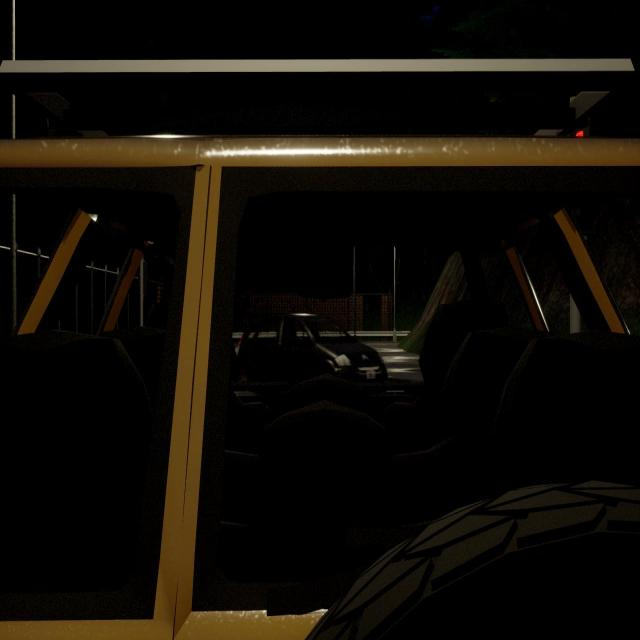Vehicle: (0, 57, 640, 640), (235, 312, 387, 395)
traffic_light: (575, 115, 587, 141)
